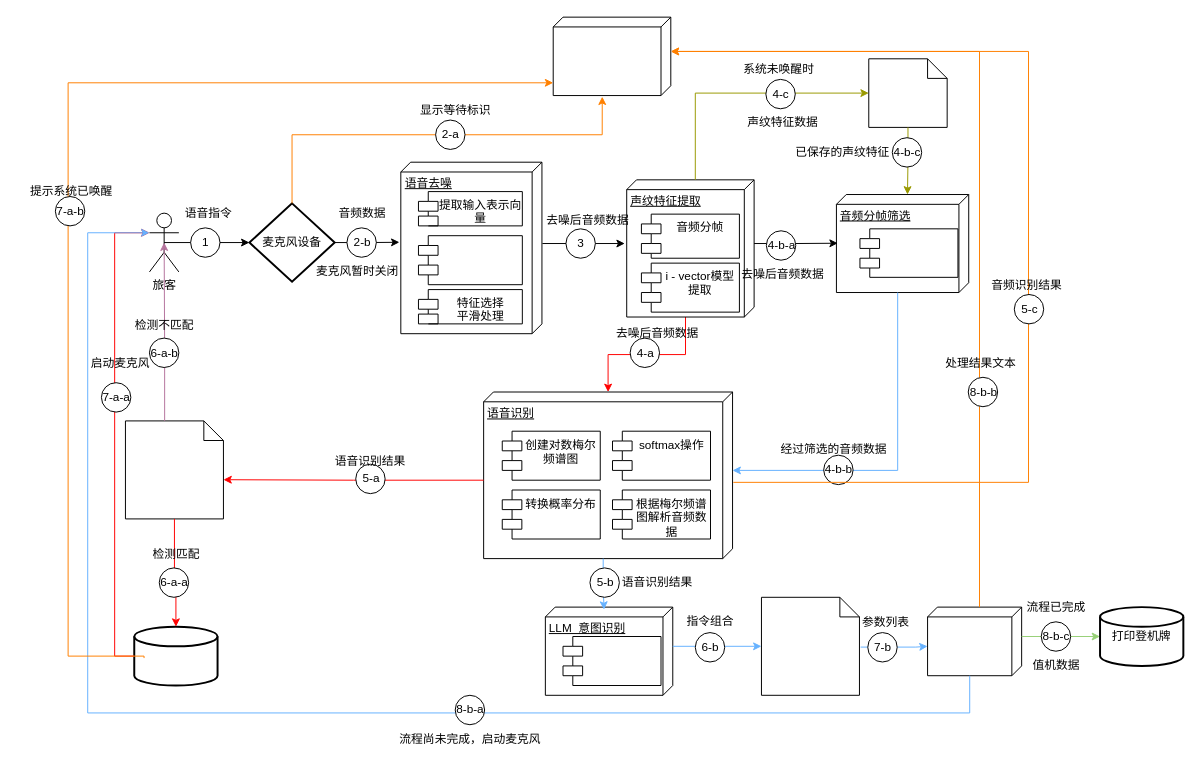
This 1201x771 diagram has some shape labels left out. The shapes that lost their labels are listed below. From the top down, each one's centre as x and y in pixels, then its label:
At pixel 611 56: "用户界面".
At pixel 907 92: "声纹特征保存".
At pixel 469 260: "线性变换 计算注意力分数 多头分割".
At pixel 908 252: "根据每帧余弦相似度比对筛选目标音频".
At pixel 173 469: "唤醒词检测".
At pixel 175 655: "唤醒系统".
At pixel 611 661: "选择航班 选择座位 ...".
At pixel 809 645: "指令解析".
At pixel 974 641: "后端API".
